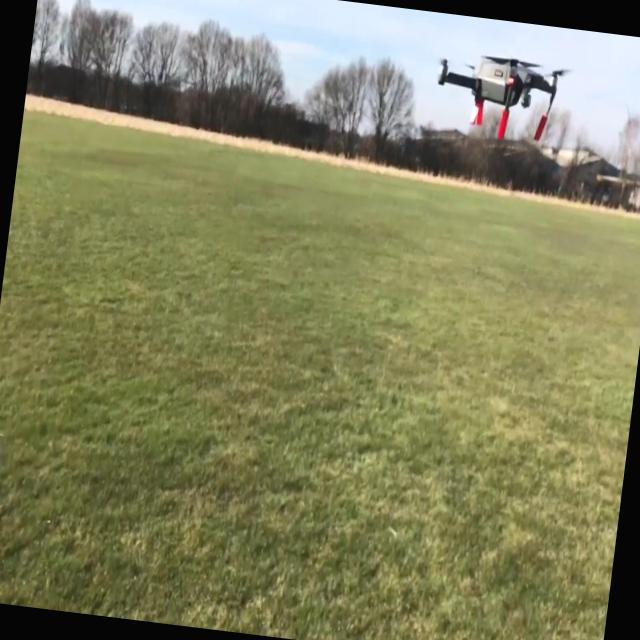drone: (428, 44, 574, 150)
